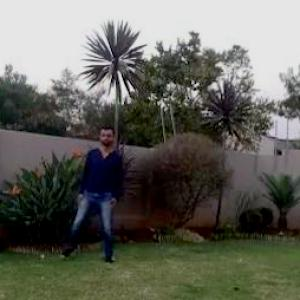follow: (83, 120, 124, 261)
